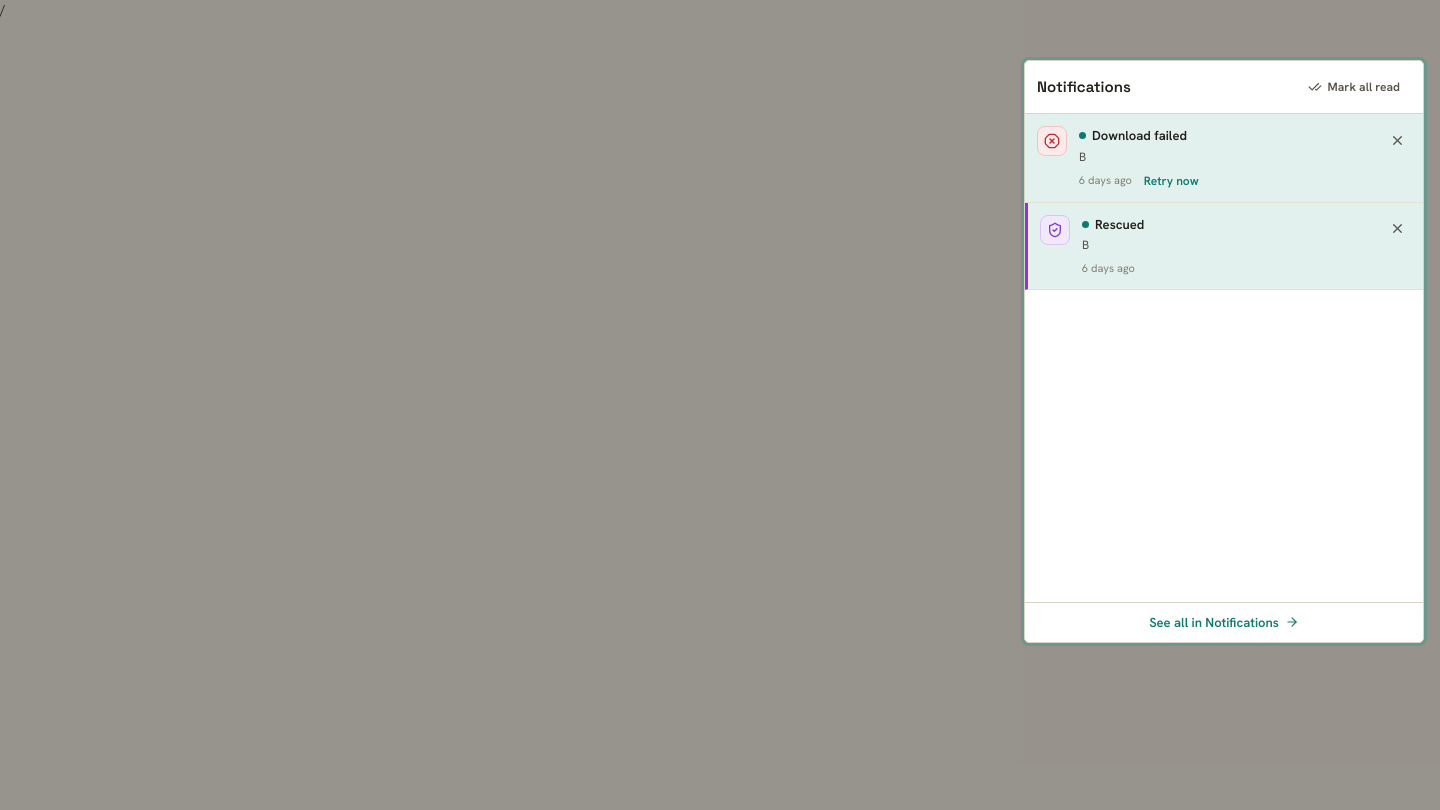
Test: BellPopup › routes a notification to its remedy, and omits the link when there is no target
Expected: the text "Download failed" is shown, [1092,126,1187,146]
// download.failed → "Retry now" → /queue
What coordinates should you click on to do the following:
click the button "Retry now"
I would click on:
 (1171, 180)
Its box is [1144,172,1199,190].
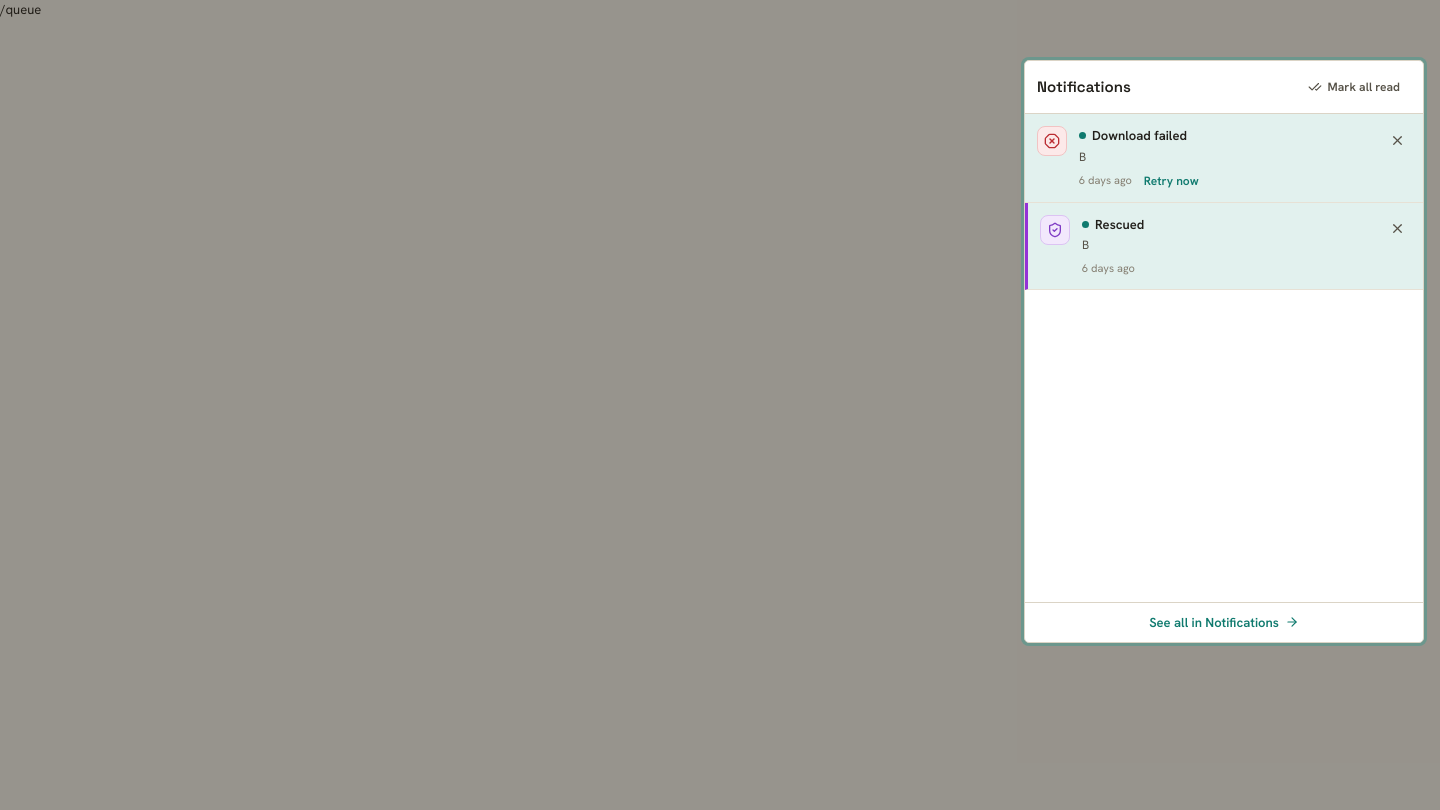
Expected: the text with test id "loc" reads "/queue", [0,1,41,18]
